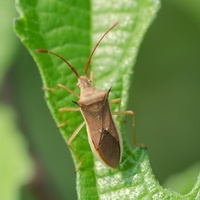insect: (35, 21, 121, 168)
